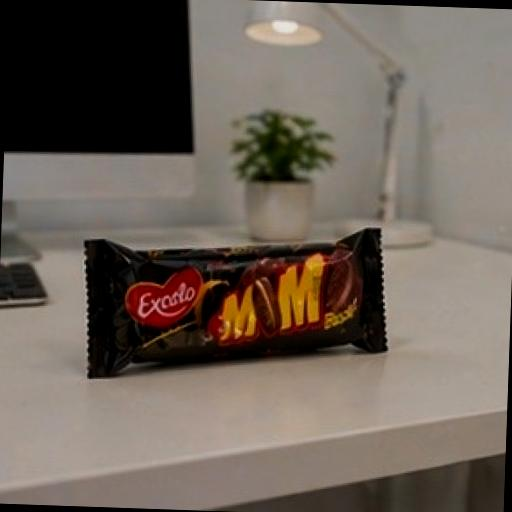MOMO: (28, 189, 445, 423)
